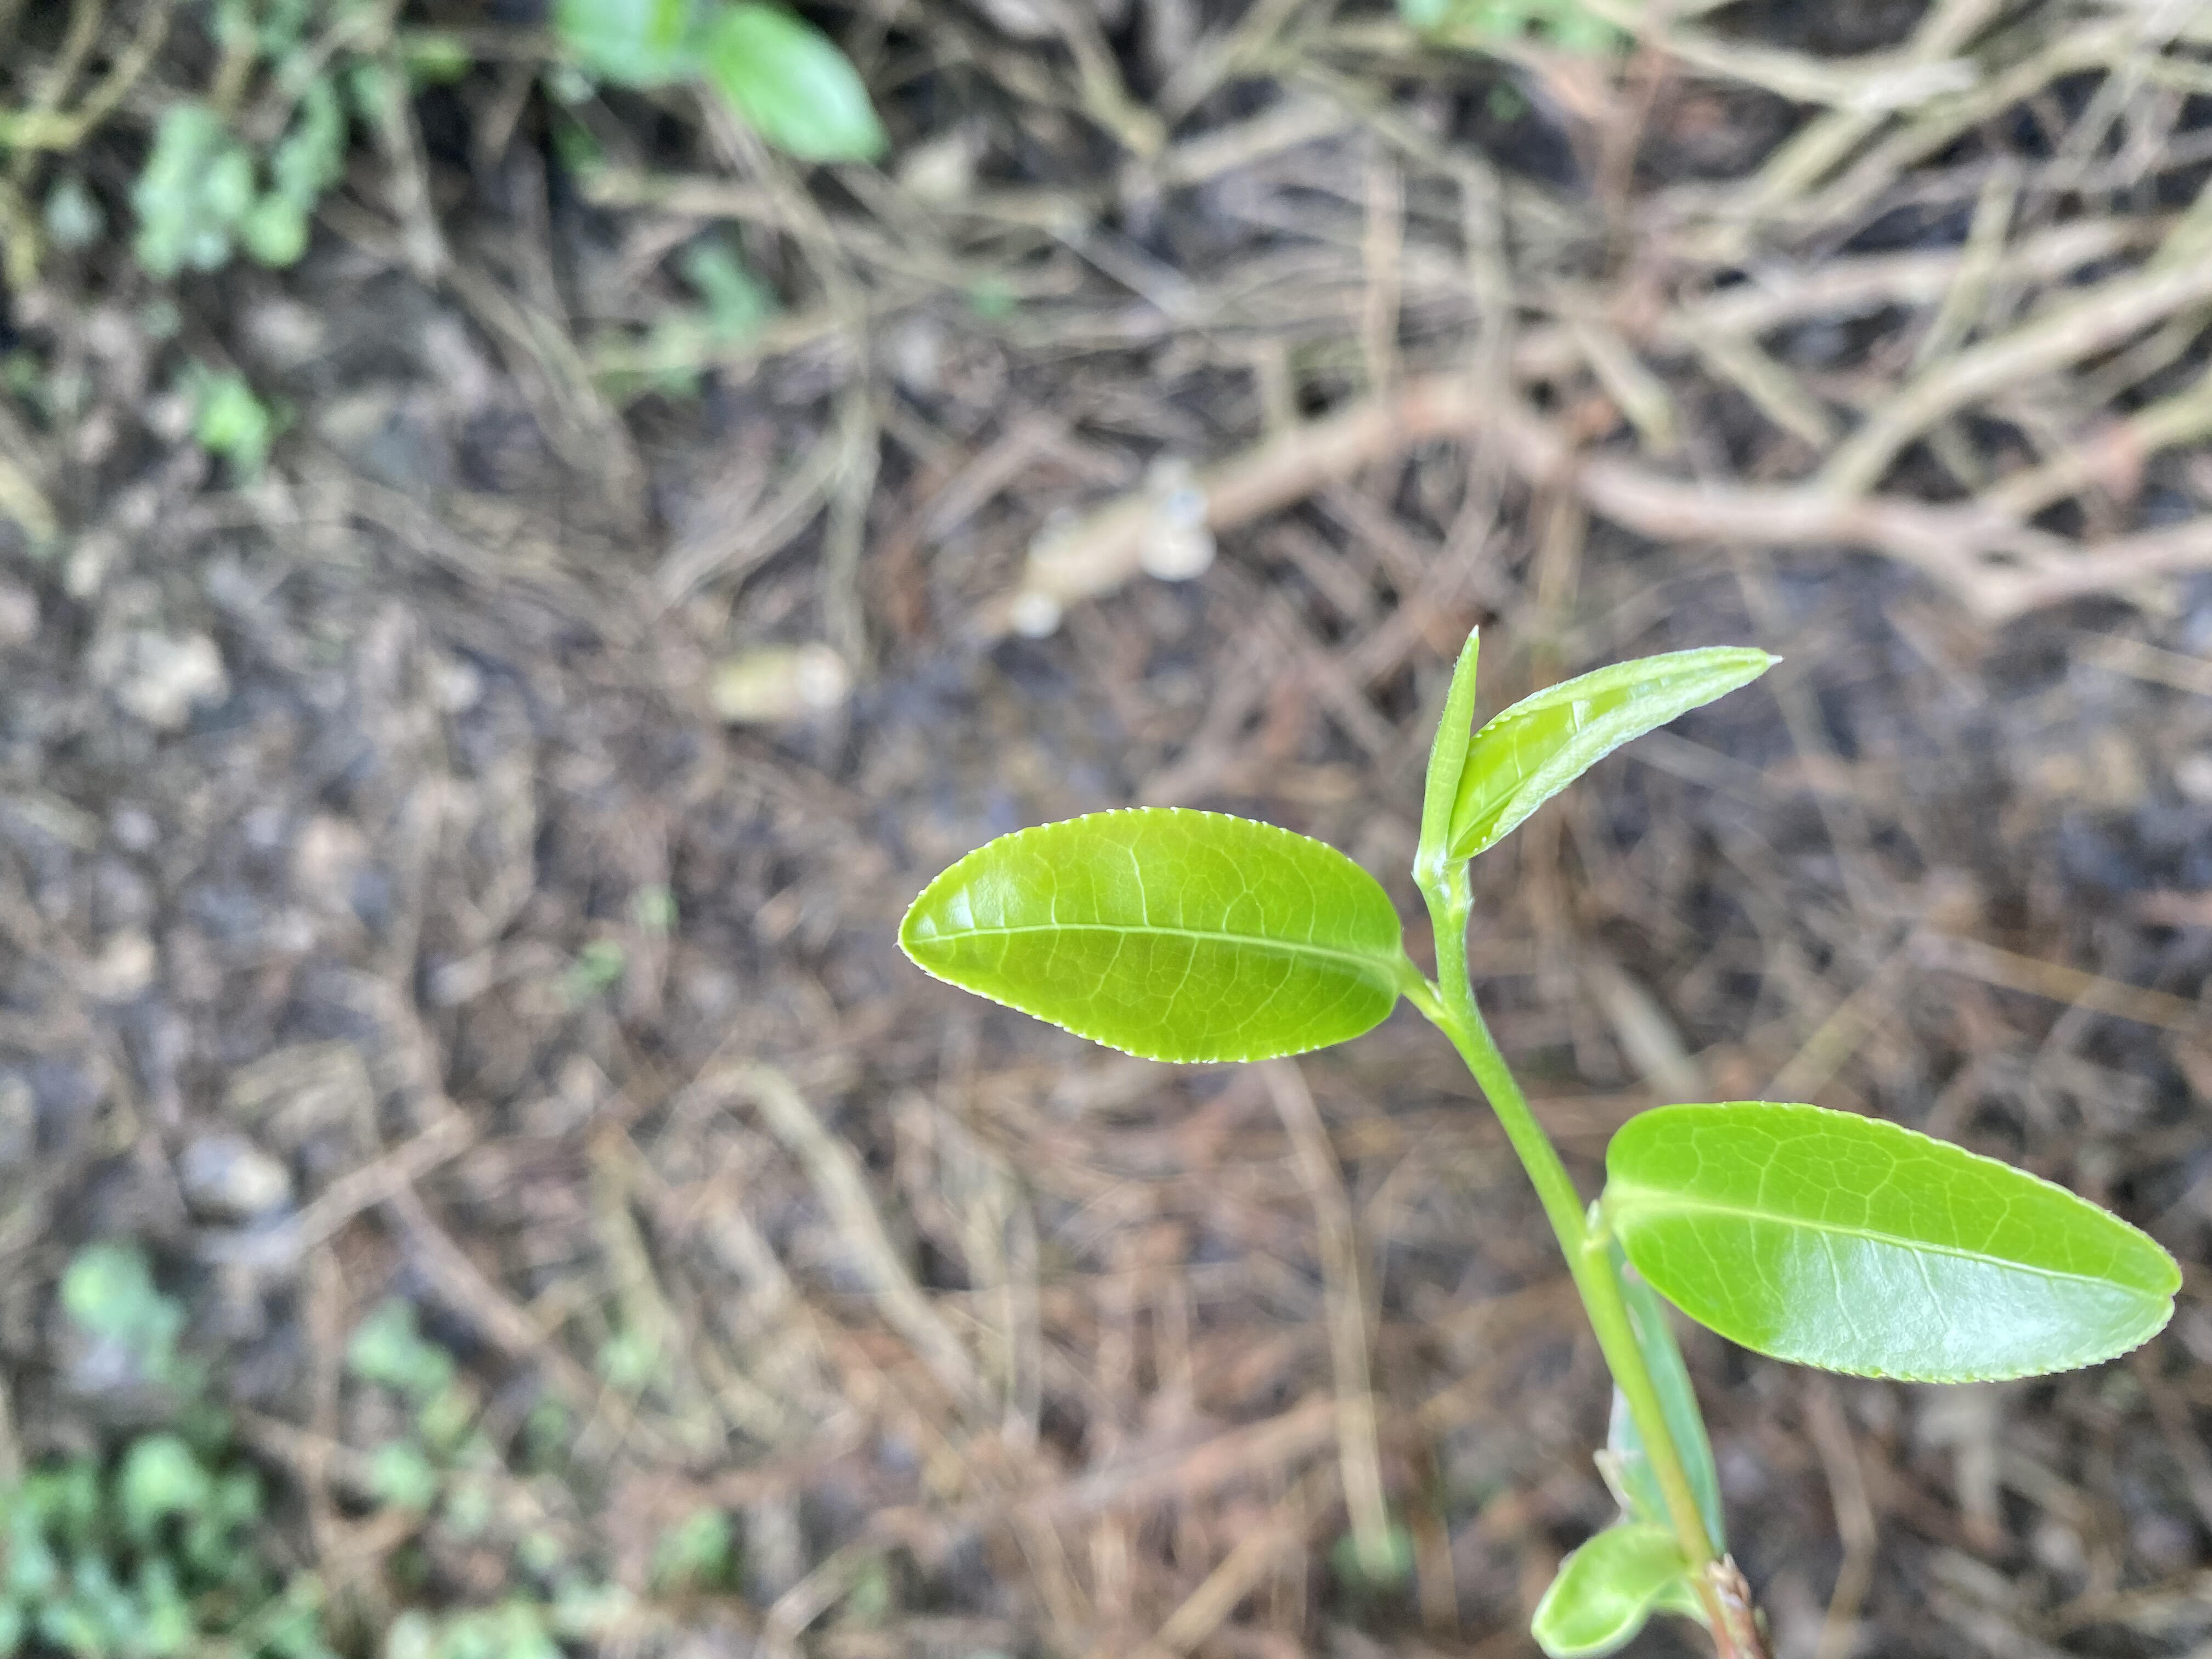healthy: (1599, 1100, 2184, 1387), (894, 803, 1404, 1066), (1451, 647, 1778, 859)
